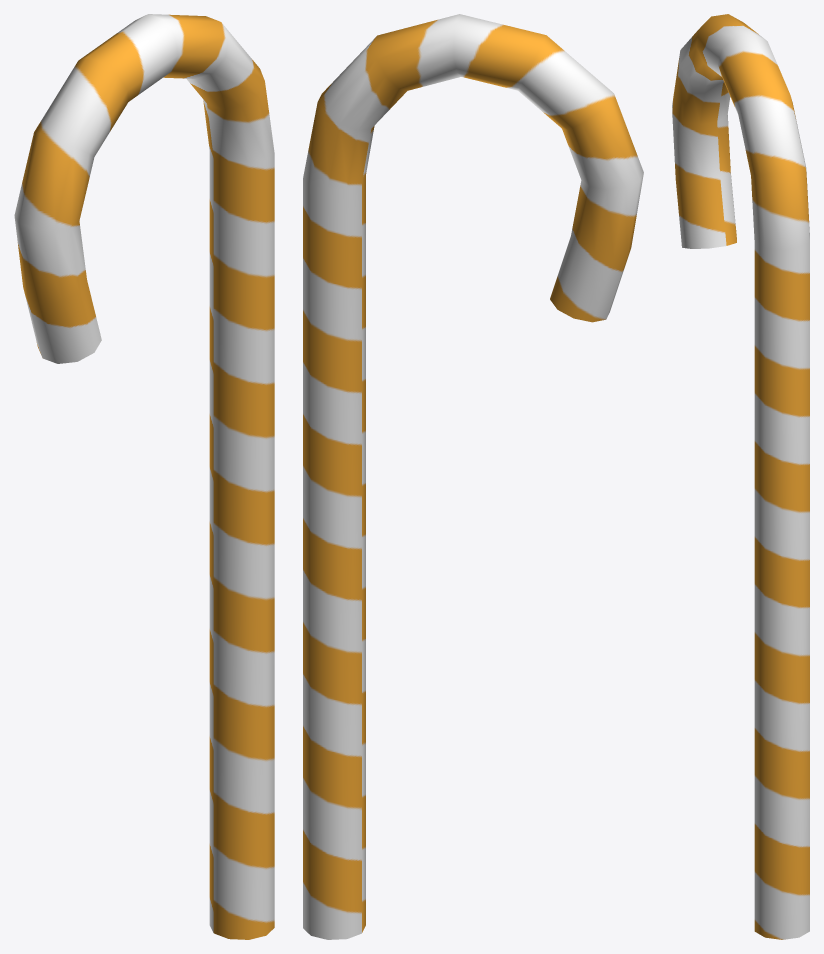
The model's file is candycane orange.fbx.
3 views of the same model, side by side, from view 1: azimuth 30°, elevation 25°; view 2: azimuth 150°, elevation 25°; view 3: azimuth 270°, elevation 25° (orthographic). The views are drawn at different scales.
Parts seen in each view (by area): view 1: candycane_orange; view 2: candycane_orange; view 3: candycane_orange.
Boxes of the visible parts, x1,y1,x2,y2 form: candycane_orange: [14, 14, 274, 939]; candycane_orange: [303, 14, 643, 939]; candycane_orange: [672, 14, 809, 939].
Size of the model in its own units: 4.96 by 15.13 by 2.23.
1 material, 1 textured.
